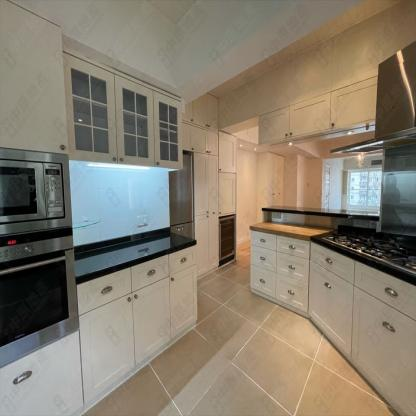Cupboard: (248, 229, 416, 415), (78, 245, 198, 404), (63, 57, 182, 169)
Exhaust Hood: (329, 66, 416, 153)
Fridge: (169, 154, 192, 238)
Oven: (0, 147, 78, 365)
Stove: (320, 230, 416, 276)
